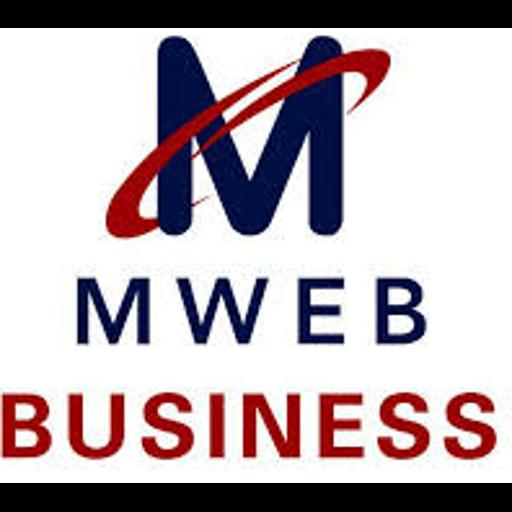MWeb: (0, 28, 512, 483)
